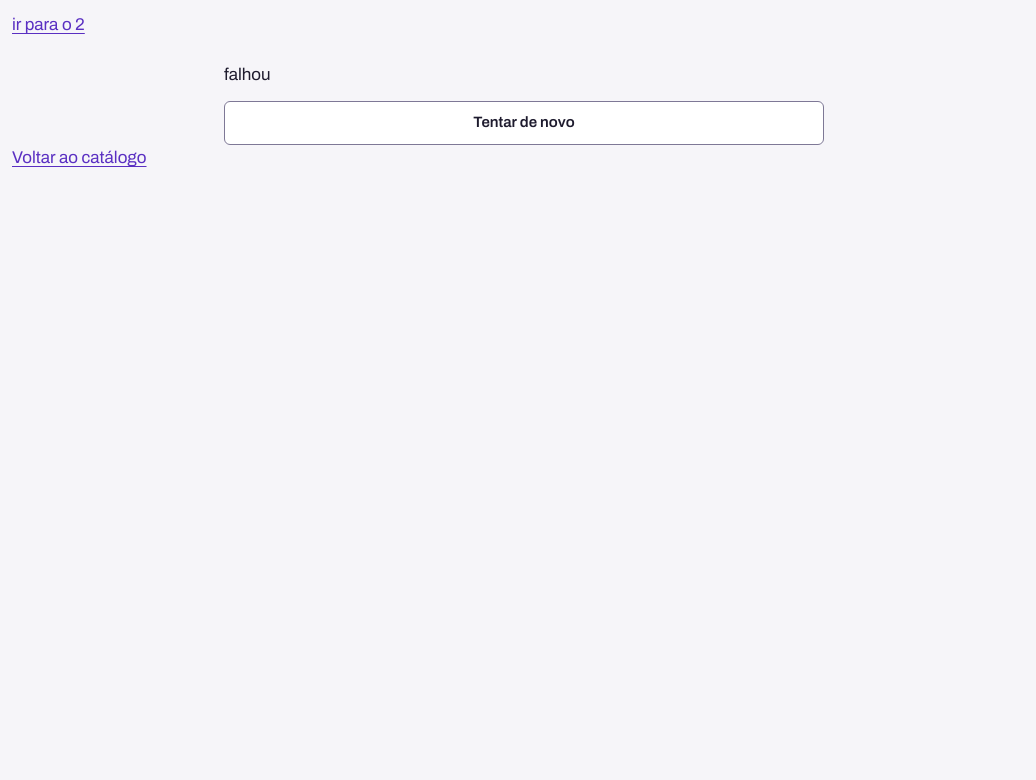
it: DetalheFilme: respostas tardias › um retry em voo do filme A é descartado depois de trocar para o B
Click the button "Tentar de novo": (524,123) [224,101,824,145]
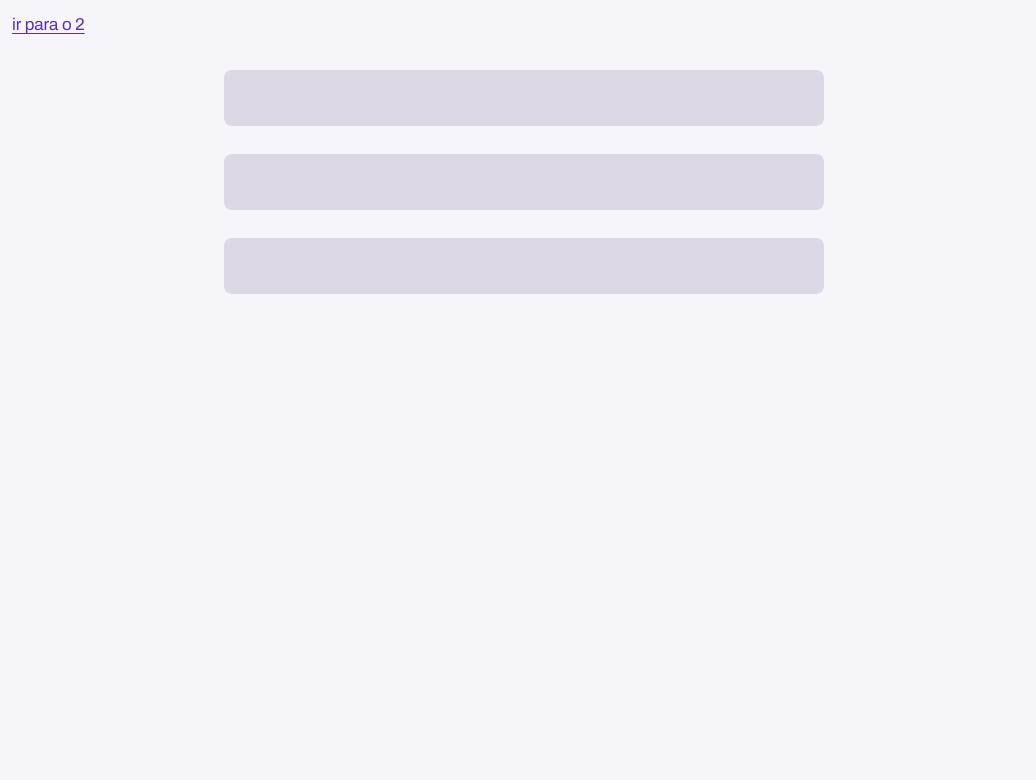
Click the link "ir para o 2": (48,24) [12,15,85,34]
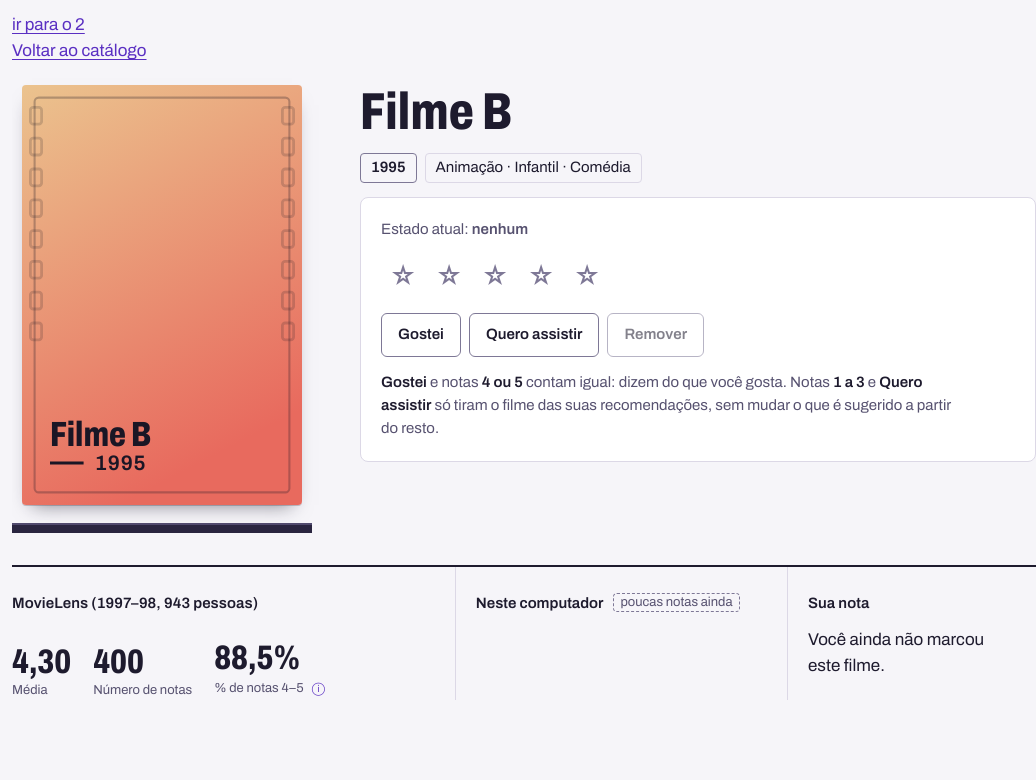
expect the heading "Filme B" is shown: met, box [360,83,512,140]
